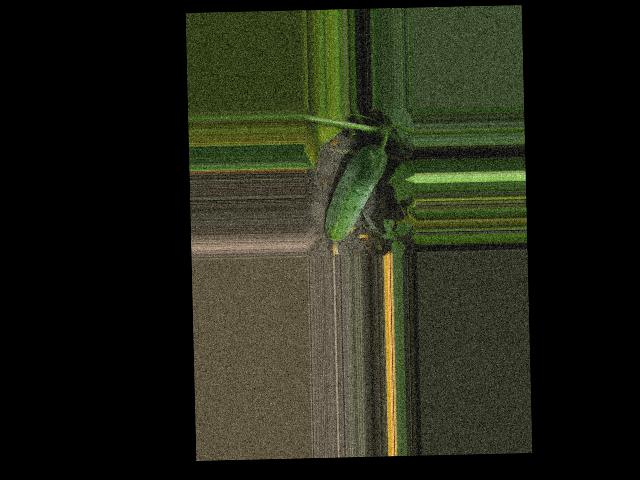cucumber: (322, 144, 389, 256)
